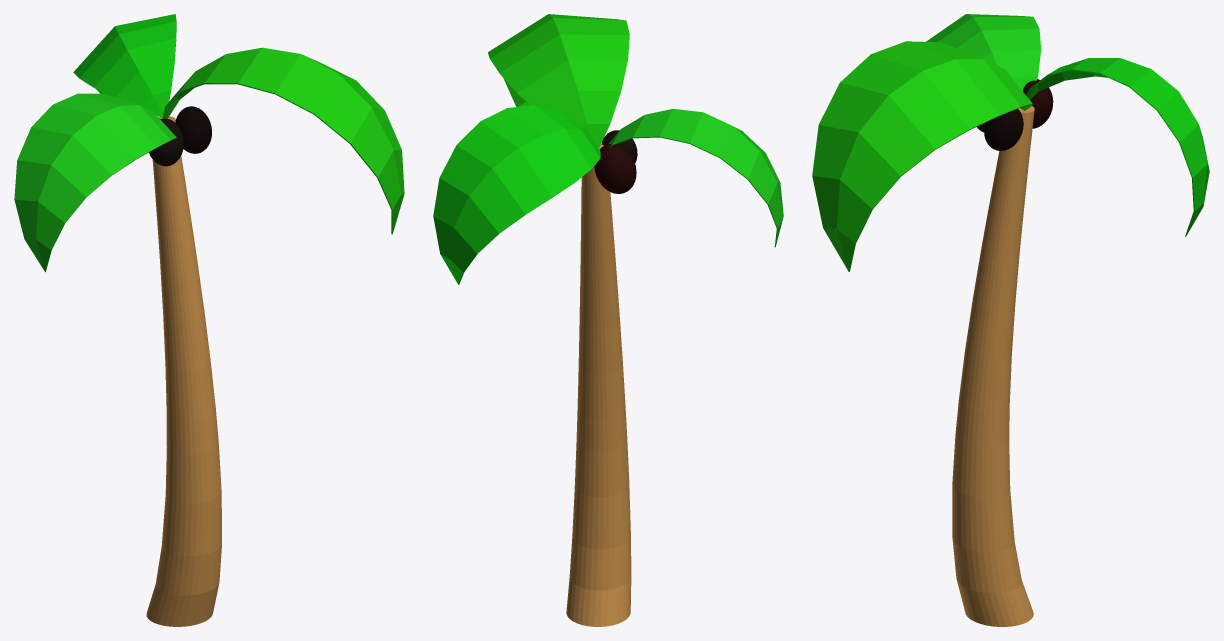
File: cocount.obj
The picture shows the model from 3 angles, left to right: view 1: azimuth 30°, elevation 25°; view 2: azimuth 150°, elevation 25°; view 3: azimuth 270°, elevation 25°; orthographic projection. The views are drawn at different scales.
Parts seen in each view (by area): view 1: Cylinder.001, Sphere.005, Sphere.004, Sphere.003, Sphere.001, Sphere.002; view 2: Cylinder.001, Sphere.003, Sphere.004, Sphere.005, Sphere; view 3: Cylinder.001, Sphere.004, Sphere.003, Sphere.005, Sphere.001, Sphere.
Boxes of the visible parts, x1,y1,x2,y2 form: Cylinder.001: [146, 116, 221, 626]; Sphere.005: [14, 93, 176, 272]; Sphere.004: [162, 47, 404, 234]; Sphere.003: [73, 14, 176, 117]; Sphere.001: [175, 106, 211, 153]; Sphere.002: [149, 118, 183, 166]; Cylinder.001: [566, 144, 631, 626]; Sphere.003: [433, 105, 600, 284]; Sphere.004: [488, 14, 629, 147]; Sphere.005: [608, 108, 783, 247]; Sphere: [594, 144, 636, 193]; Cylinder.001: [952, 106, 1034, 626]; Sphere.004: [812, 41, 1032, 271]; Sphere.003: [1020, 58, 1209, 236]; Sphere.005: [926, 14, 1041, 90]; Sphere.001: [984, 109, 1023, 150]; Sphere: [1023, 79, 1053, 128].
Size of the model in its own units: 3.78 by 6.2 by 3.81.
